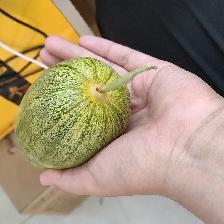gua: (18, 68, 123, 154)
